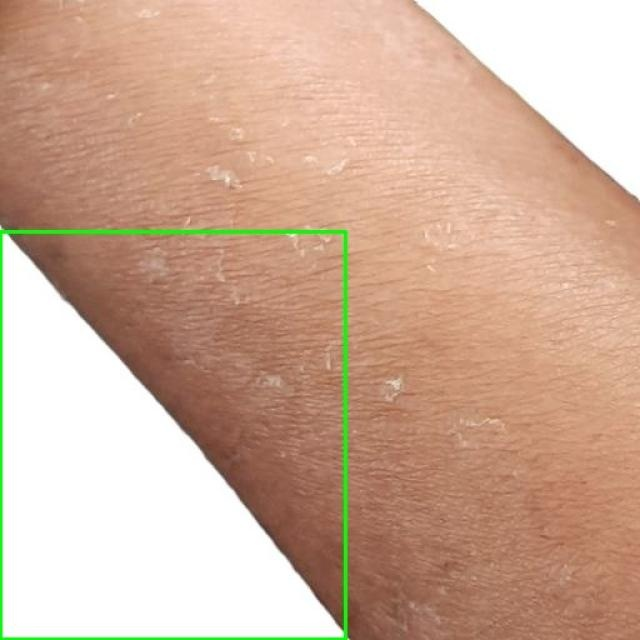Tinea Corporis: (0, 231, 345, 639)
